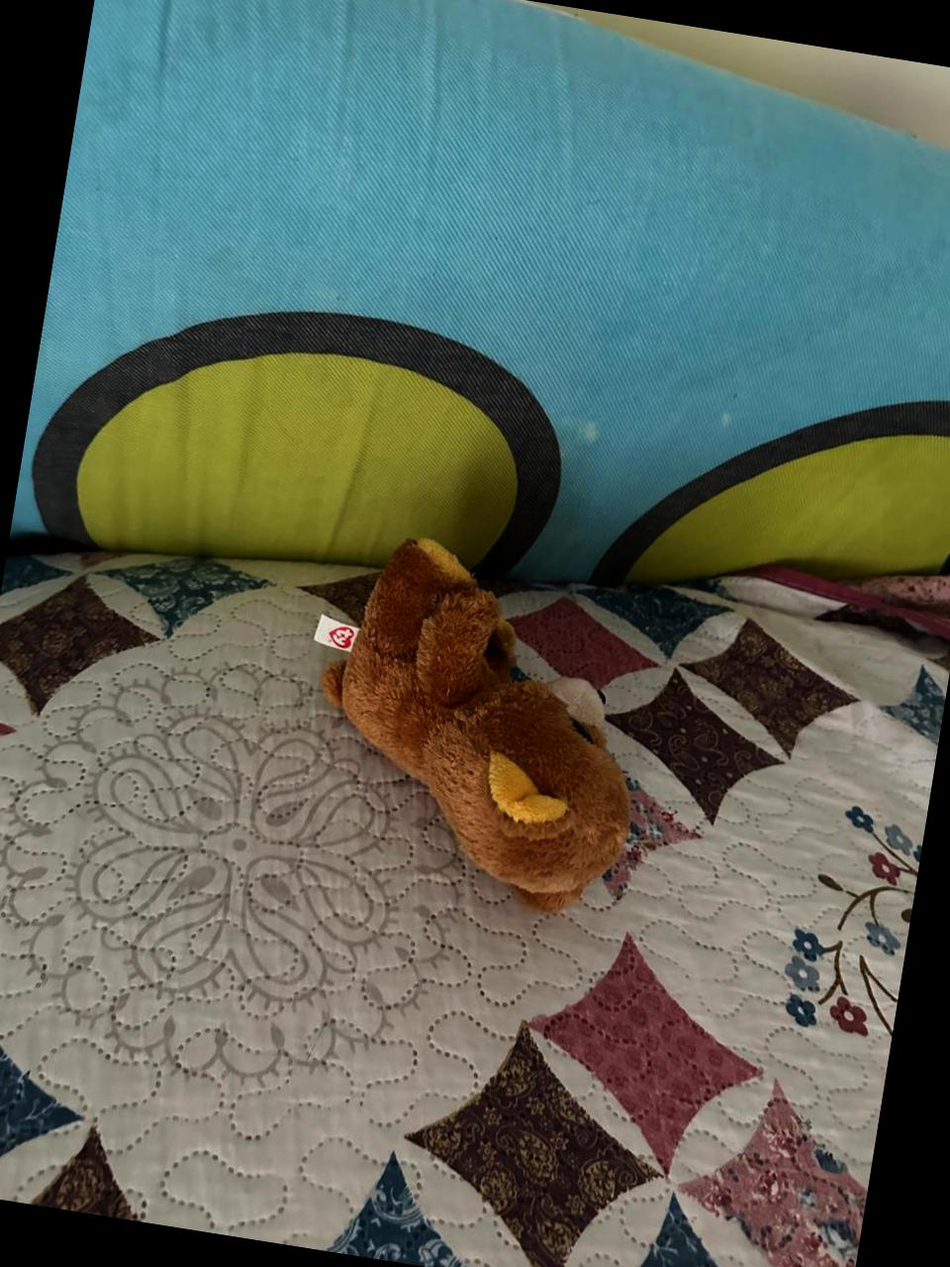peluche_sebastian: (291, 530, 688, 917)
